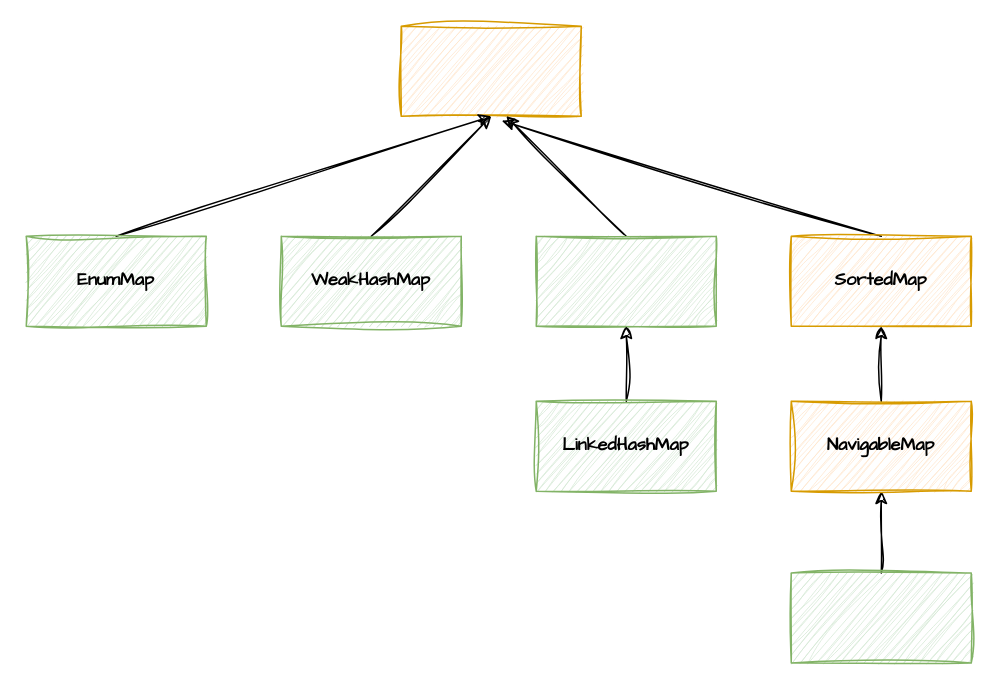
This 998x690 diagram has some shape labels left out. The centre of each missing label's shape, as x and y in pixels:
"HashMap" belongs at point 625,280.
"Map" belongs at point 490,70.
"TreeMap" belongs at point 880,617.
